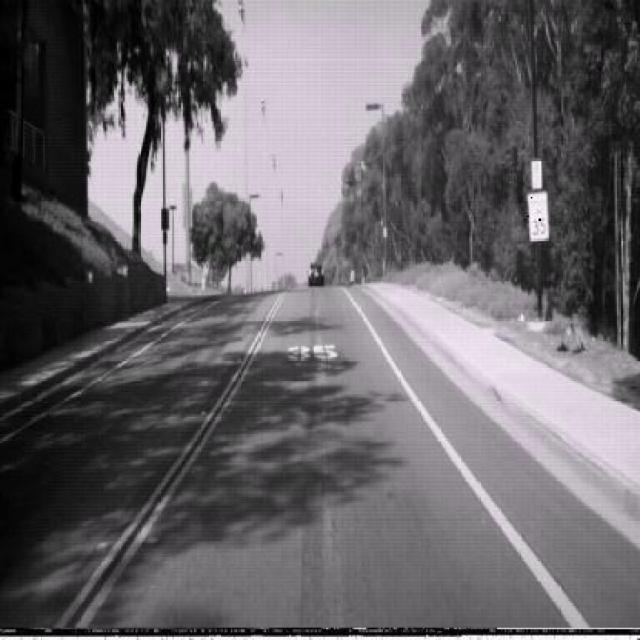speedLimit35: (526, 189, 550, 242)
